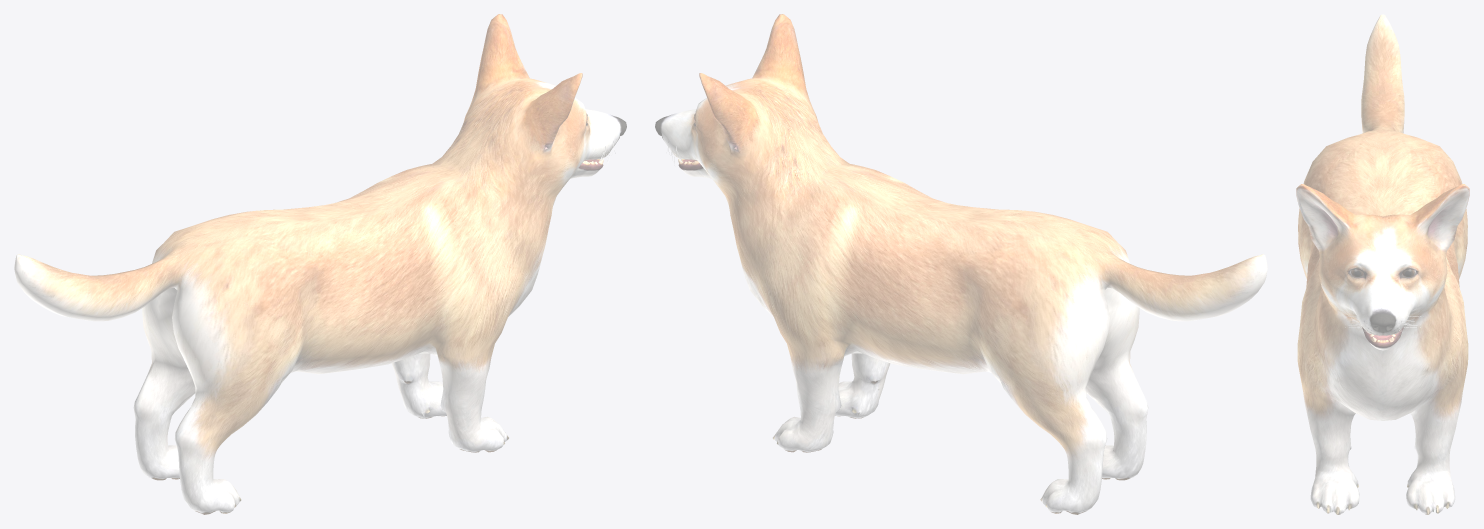
Rendered from dog.glb.
The picture shows the model from 3 angles, left to right: view 1: azimuth 30°, elevation 25°; view 2: azimuth 150°, elevation 25°; view 3: azimuth 270°, elevation 25°; orthographic projection.
Parts seen in each view (by area): view 1: gou; view 2: gou; view 3: gou.
Part boxes in pixels (left/top/right/bottom): gou: left=14, top=14, right=626, bottom=514; gou: left=655, top=14, right=1267, bottom=514; gou: left=1296, top=14, right=1469, bottom=514.
Bounding box in the file's own units: 1.19 × 0.6769 × 0.2934.
1 material, 1 textured.
